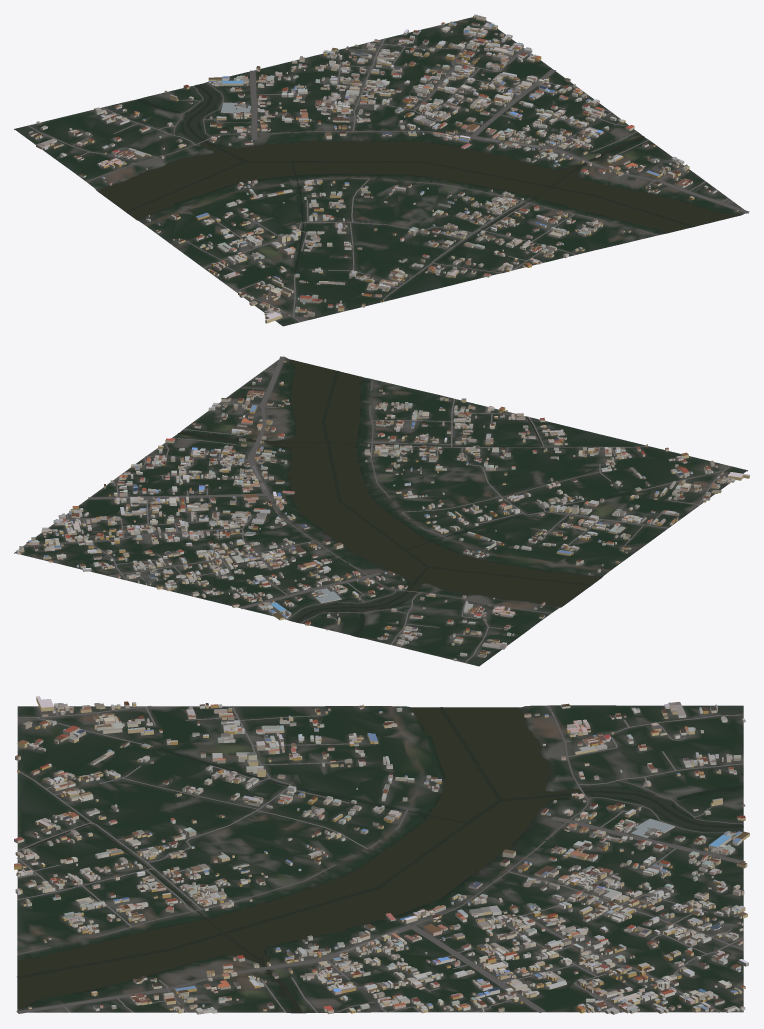
3 renders of one model, top to bottom at view 1: azimuth 30°, elevation 25°; view 2: azimuth 150°, elevation 25°; view 3: azimuth 270°, elevation 25°, orthographic. The views are drawn at different scales.
Visible parts, largest first — view 1: ground, buildings, water, roads; view 2: ground, buildings, water, roads; view 3: ground, buildings, water, roads.
Part boxes in pixels (x1,y1,x2,y2): ground: (14,17,748,326); buildings: (28,14,738,323); water: (98,83,739,273); roads: (28,21,749,321); ground: (14,357,747,666); buildings: (16,360,749,661); water: (178,359,630,636); roads: (22,356,730,662); ground: (17,705,743,1013); buildings: (14,696,749,1014); water: (17,707,743,1013); roads: (16,705,745,1013).
Size of the model in its own units: 1439 by 24.82 by 1419.
